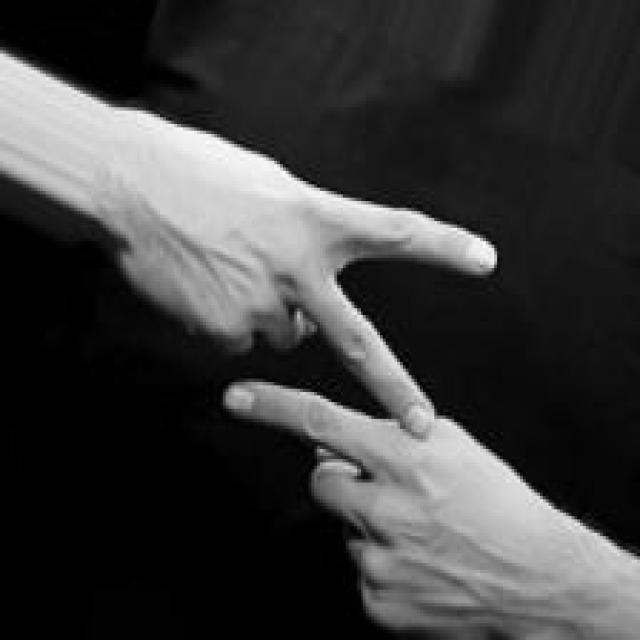Z: (112, 107, 537, 640)
